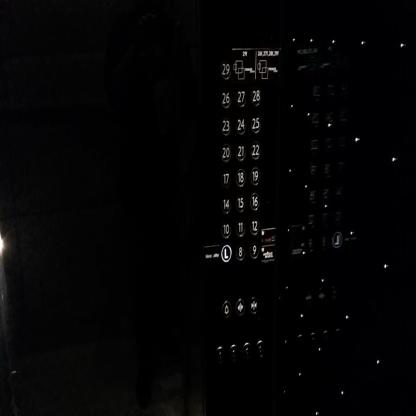10: (220, 218, 232, 240)
11: (235, 216, 246, 238)
12: (249, 214, 260, 236)
14: (221, 193, 232, 216)
15: (235, 192, 246, 214)
16: (249, 190, 260, 212)
17: (220, 167, 232, 190)
18: (235, 166, 246, 188)
19: (249, 163, 260, 185)
20: (220, 141, 232, 163)
21: (235, 140, 246, 162)
22: (249, 138, 261, 160)
23: (219, 112, 232, 136)
24: (235, 113, 248, 137)
25: (250, 111, 262, 135)
26: (219, 86, 232, 110)
27: (235, 84, 248, 108)
28: (249, 83, 262, 107)
29: (219, 58, 232, 82)
8: (235, 240, 246, 262)
9: (248, 238, 260, 260)
L: (220, 242, 232, 264)
alarm: (221, 298, 232, 318)
close: (248, 294, 259, 314)
open: (235, 296, 246, 316)
